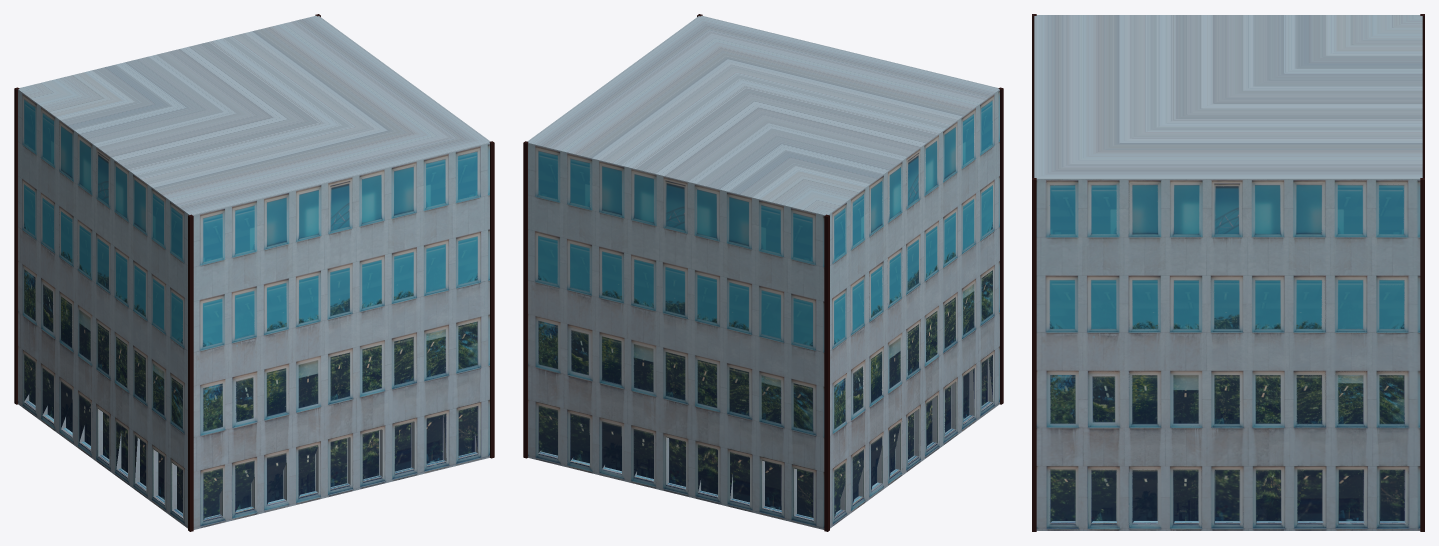
File: BG_Building4.fbx
3 views of the same model, side by side, from view 1: azimuth 30°, elevation 25°; view 2: azimuth 150°, elevation 25°; view 3: azimuth 270°, elevation 25° (orthographic). The views are drawn at different scales.
Parts seen in each view (by area): view 1: BG_Building4; view 2: BG_Building4; view 3: BG_Building4.
Boxes of the visible parts, box(x1,y1,x2,y2) form: BG_Building4: box(14, 14, 494, 531); BG_Building4: box(523, 14, 1003, 531); BG_Building4: box(1032, 14, 1424, 531).
Bounding box in the file's own units: 802 × 792 × 802.
